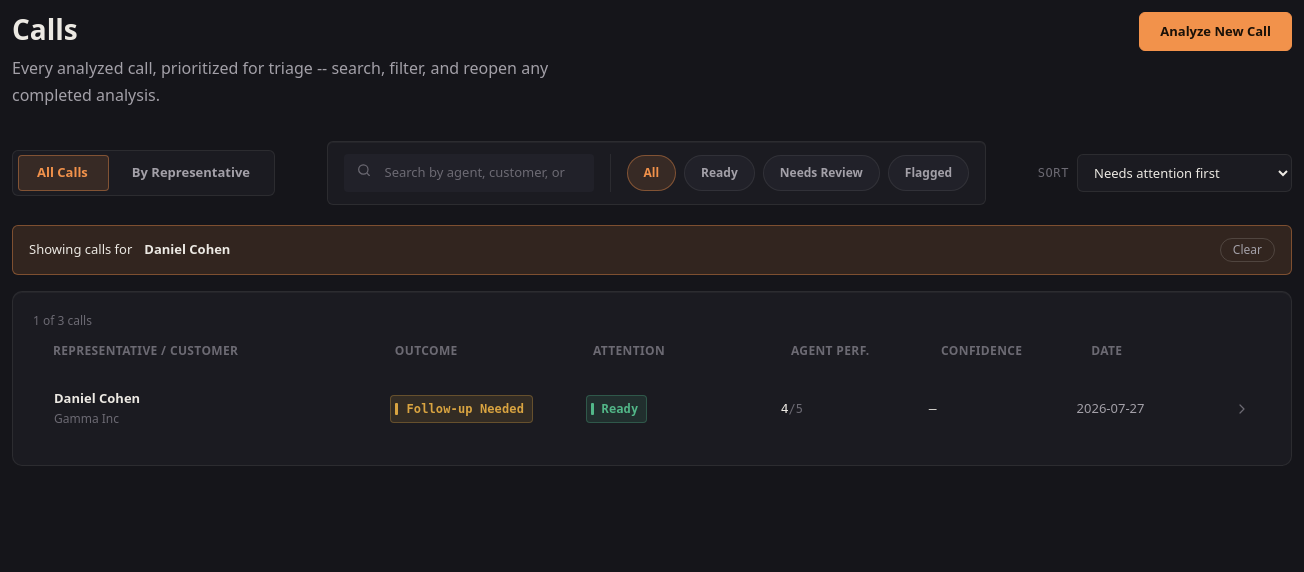
Scenario: Calls filtering and search › clears the representative filter
The width and height of the screenshot is (1304, 572).
Check: the text "1 of 3 calls" is shown, box [33,312,92,329]
Click the button "Clear" at (1247, 250), box [1220,238,1275,262]
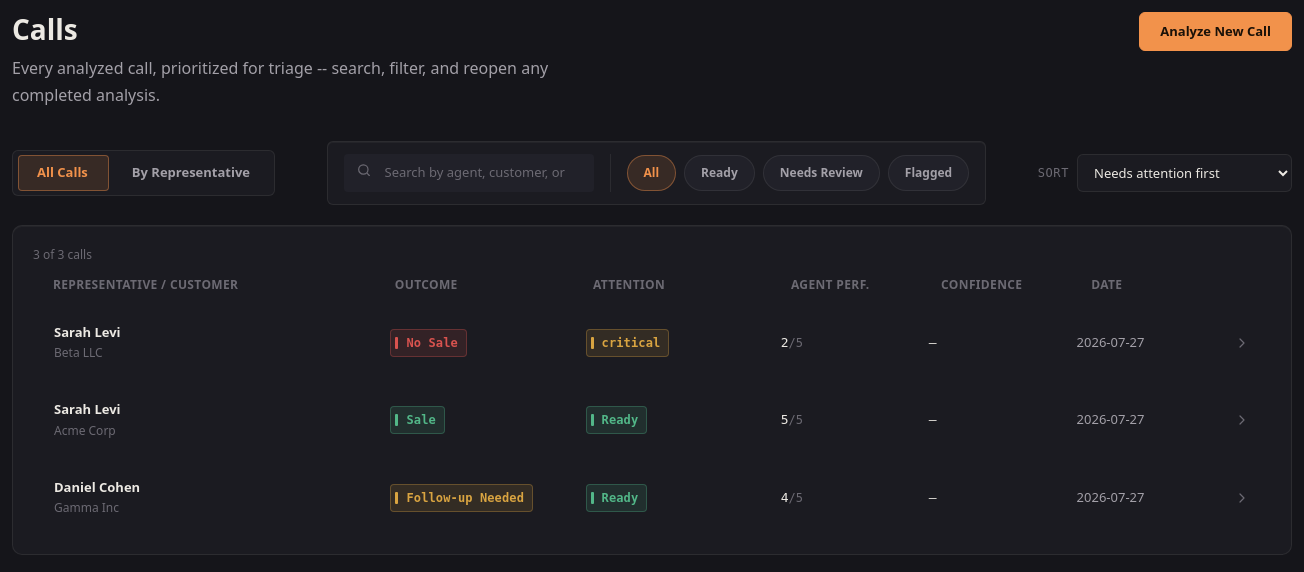
Check: the text "3 of 3 calls" is shown, box [33,246,92,263]
